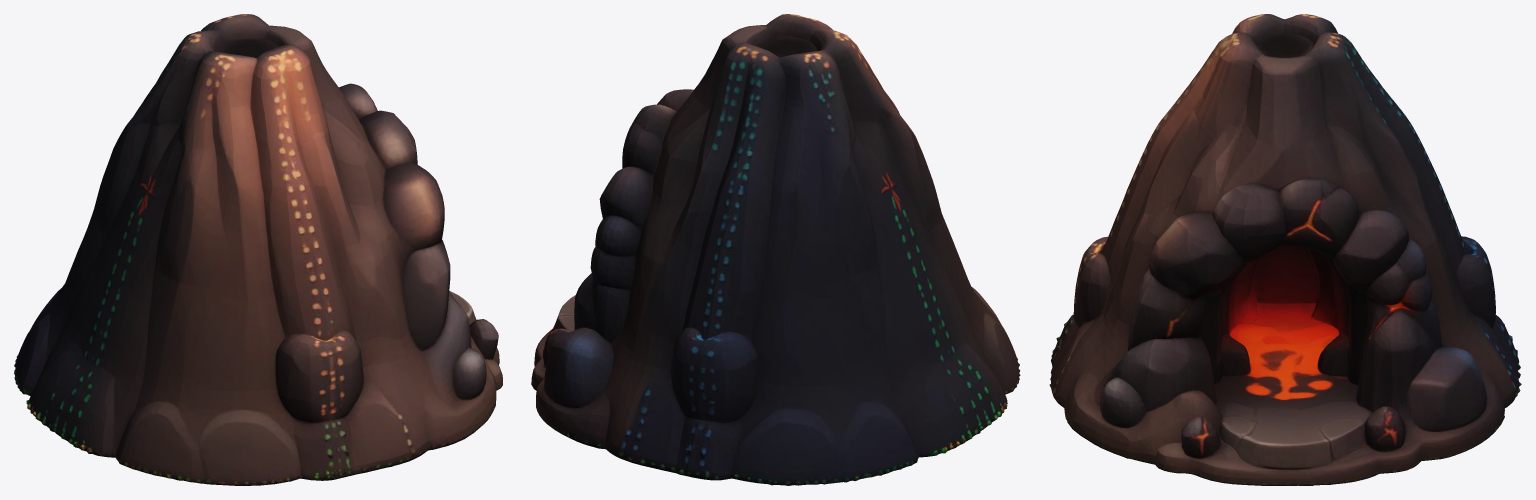
File: island_west_volcano.glb
The picture shows the model from 3 angles, left to right: view 1: azimuth 30°, elevation 25°; view 2: azimuth 150°, elevation 25°; view 3: azimuth 270°, elevation 25°; orthographic projection.
Parts seen in each view (by area): view 1: VolcanoCave; view 2: VolcanoCave; view 3: VolcanoCave.
Part boxes in pixels (x1,y1,x2,y2): VolcanoCave: [14, 14, 502, 485]; VolcanoCave: [531, 14, 1020, 485]; VolcanoCave: [1049, 14, 1521, 485].
Size of the model in its own units: 12.4 by 9.9 by 12.26.
Materials: 1 (1 with a texture image).
